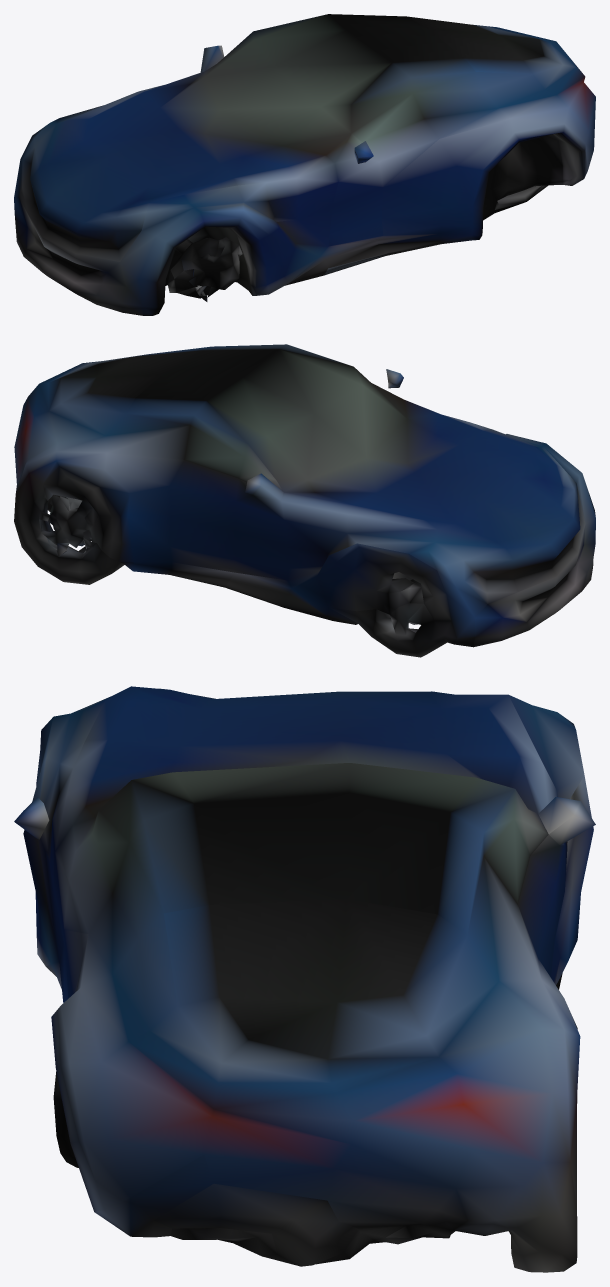
Rendered from 6451668-urban-sports-car-1k.glb.
The picture shows the model from 3 angles, top to bottom: view 1: azimuth 30°, elevation 25°; view 2: azimuth 150°, elevation 25°; view 3: azimuth 270°, elevation 25°; orthographic projection. The views are drawn at different scales.
Parts seen in each view (by area): view 1: Retopo_neural_node_e88d6e5e-1981-4041-95de-0057013ad7cb; view 2: Retopo_neural_node_e88d6e5e-1981-4041-95de-0057013ad7cb; view 3: Retopo_neural_node_e88d6e5e-1981-4041-95de-0057013ad7cb.
Boxes of the visible parts, x1=… form: Retopo_neural_node_e88d6e5e-1981-4041-95de-0057013ad7cb: x1=14, y1=14, x2=595, y2=315; Retopo_neural_node_e88d6e5e-1981-4041-95de-0057013ad7cb: x1=14, y1=344, x2=595, y2=657; Retopo_neural_node_e88d6e5e-1981-4041-95de-0057013ad7cb: x1=14, y1=686, x2=595, y2=1272.
Bounding box in the file's own units: 0.9389 × 0.3266 × 0.476.
